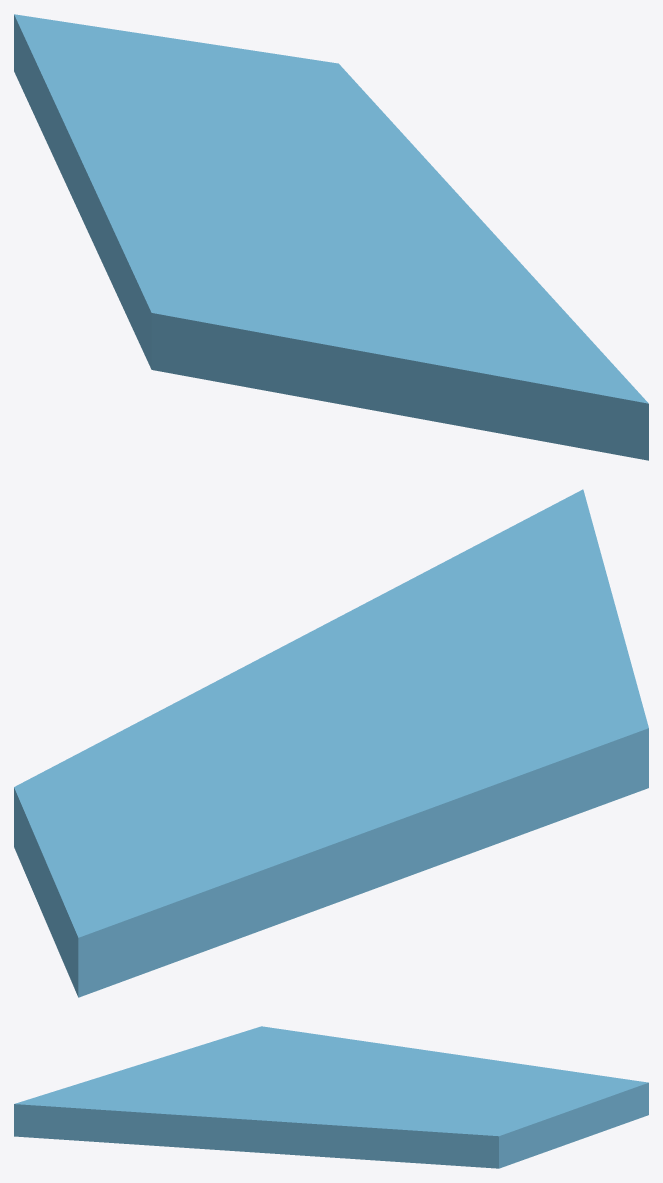
Rendered from Item_Glass.fbx.
3 renders of one model, top to bottom at view 1: azimuth 30°, elevation 25°; view 2: azimuth 150°, elevation 25°; view 3: azimuth 270°, elevation 25°, orthographic. The views are drawn at different scales.
Visible parts, largest first — view 1: Cube; view 2: Cube; view 3: Cube.
Boxes of the visible parts, x1,y1,x2,y2 form: Cube: [14, 14, 648, 460]; Cube: [14, 489, 648, 997]; Cube: [14, 1026, 648, 1168].
Bounding box in the file's own units: 207 × 28.46 × 504.
